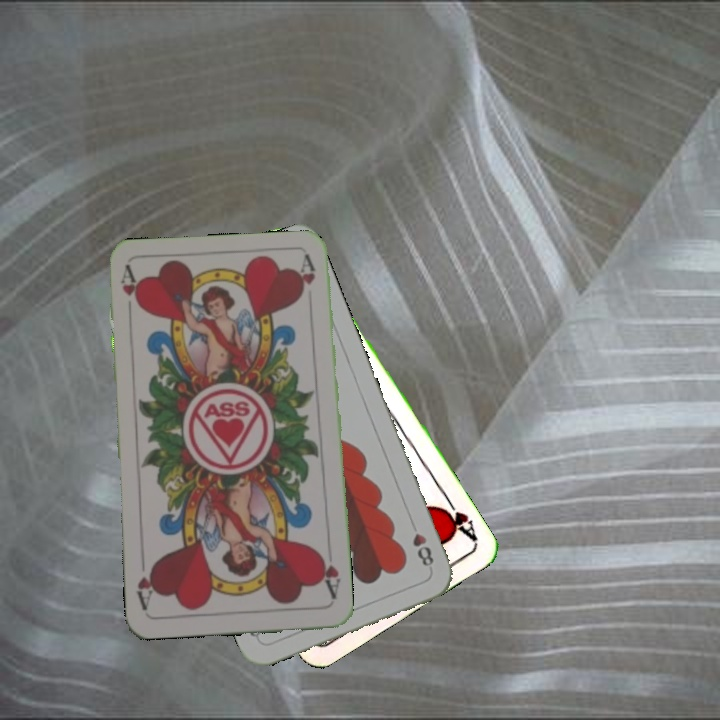H8: (406, 516, 437, 569)
HA: (434, 491, 480, 544), (315, 548, 344, 602), (117, 264, 143, 323)
